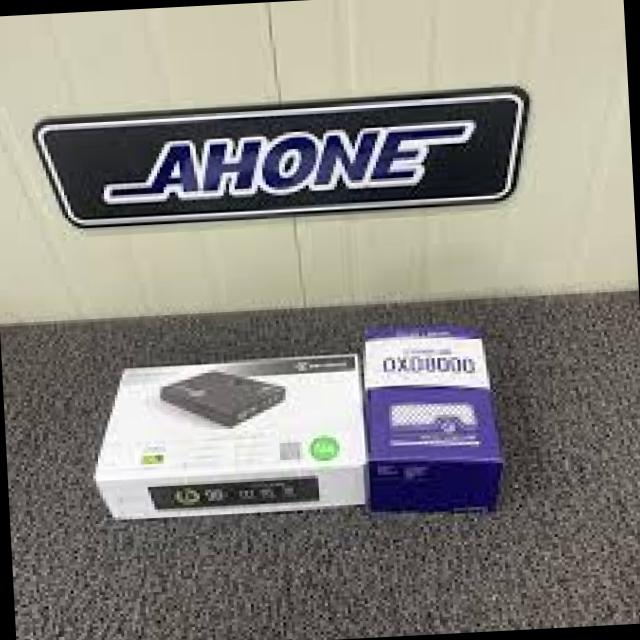power_bank: (164, 362, 293, 435)
